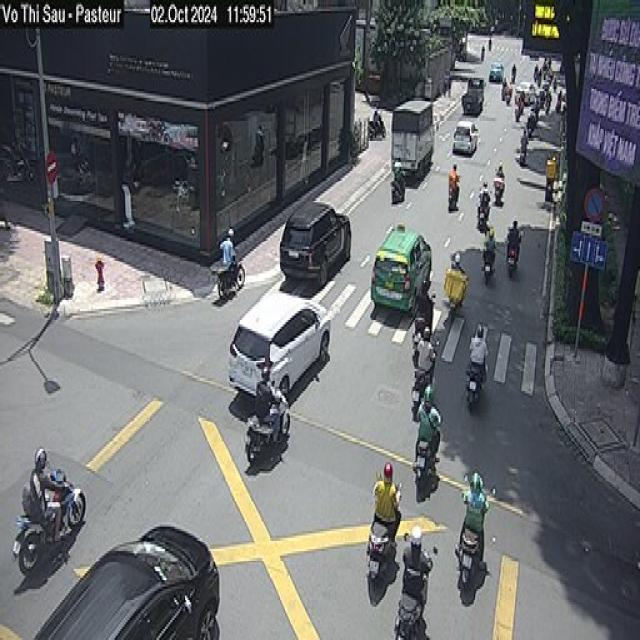car: (34, 522, 220, 638), (226, 280, 338, 405), (279, 184, 355, 289), (370, 222, 431, 311), (451, 118, 479, 156)
motorcycle: (12, 469, 86, 575), (365, 516, 395, 605), (455, 524, 483, 602), (391, 585, 423, 640), (215, 256, 245, 300), (465, 356, 486, 411), (505, 231, 521, 278), (480, 244, 495, 284), (476, 195, 490, 229), (493, 173, 505, 204)
person: (29, 447, 66, 542), (394, 524, 436, 604), (412, 382, 446, 448), (370, 455, 400, 529), (460, 471, 491, 535), (468, 322, 488, 387), (482, 227, 496, 273), (448, 162, 460, 209)
truck: (389, 96, 441, 185)
